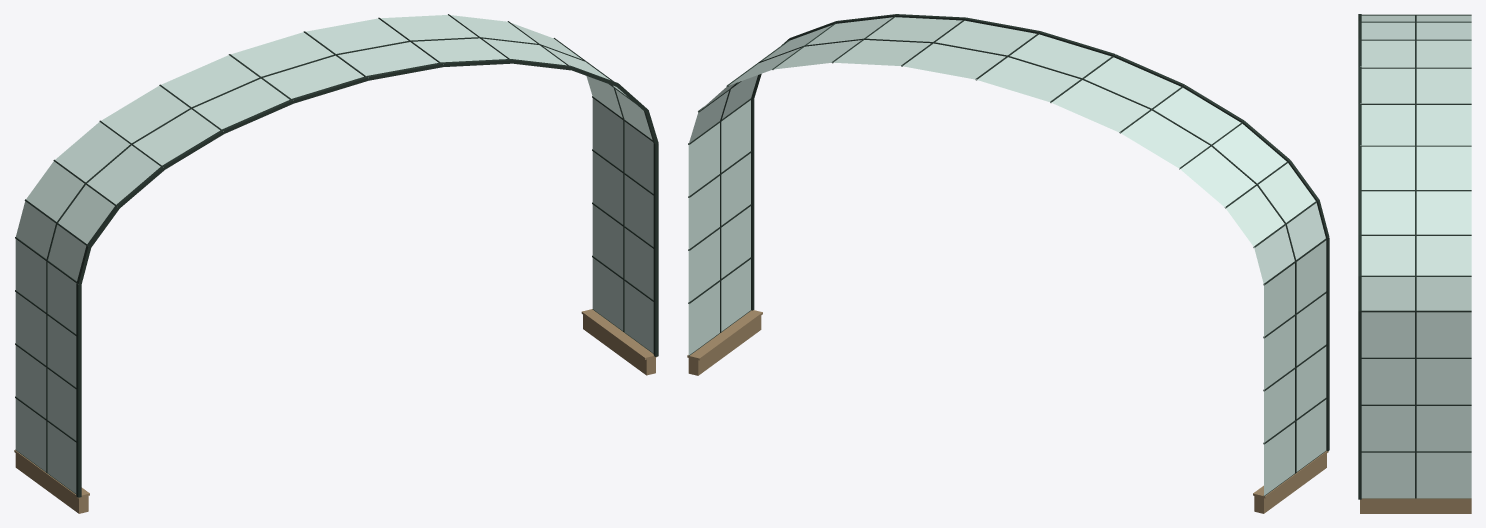
File: greenhouse_bay.glb
The picture shows the model from 3 angles, left to right: view 1: azimuth 30°, elevation 25°; view 2: azimuth 150°, elevation 25°; view 3: azimuth 270°, elevation 25°; orthographic projection. The views are drawn at different scales.
Visible parts, largest first — view 1: greenhouse_bay; view 2: greenhouse_bay; view 3: greenhouse_bay.
Part boxes in pixels (<box>): greenhouse_bay: <box>14,14,658,513</box>; greenhouse_bay: <box>687,14,1329,513</box>; greenhouse_bay: <box>1358,14,1471,513</box>.
Size of the model in its own units: 21.12 by 12.76 by 4.06.
